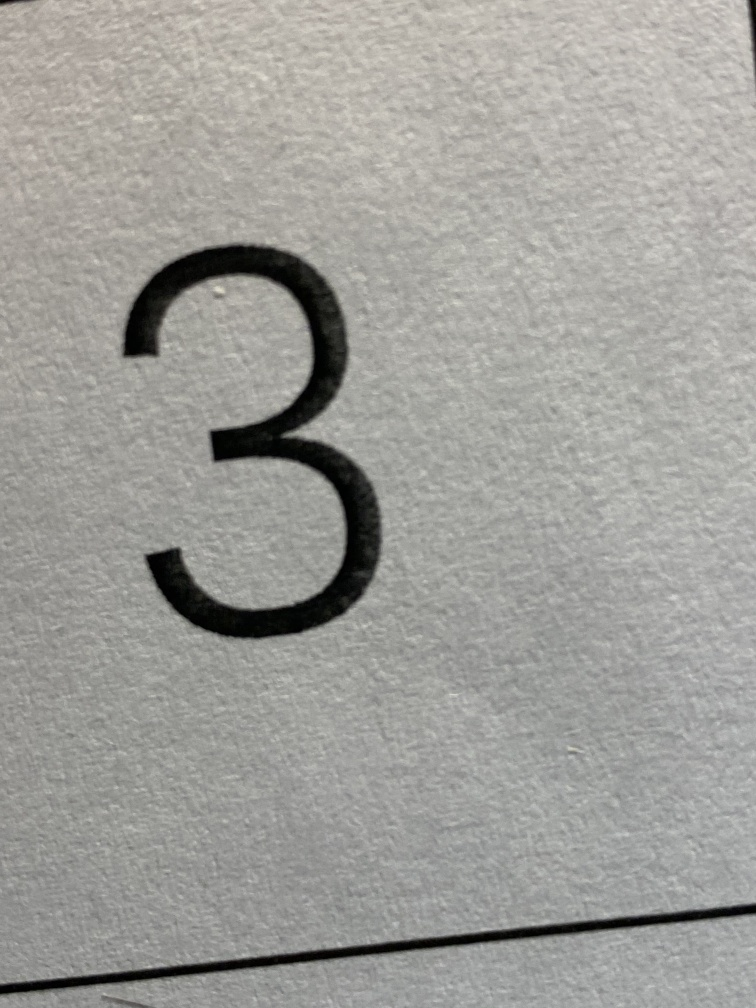three: (65, 209, 429, 694)
